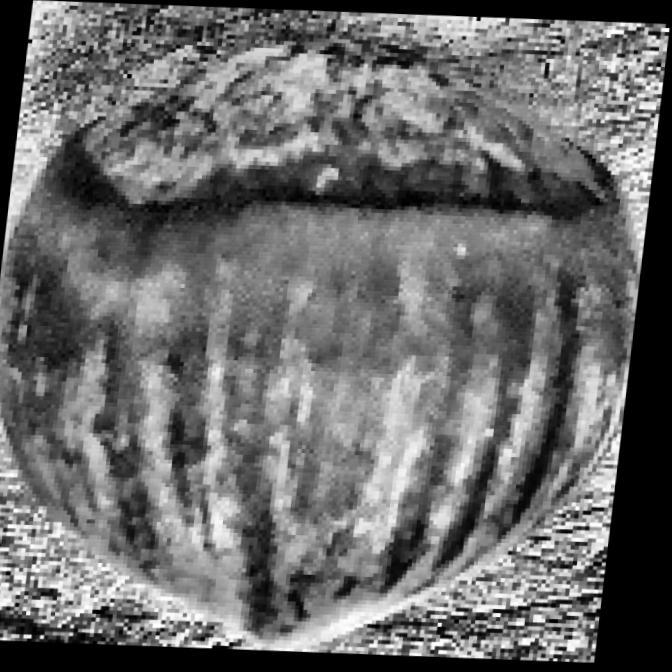qualityHazelnut: (0, 0, 672, 672)
